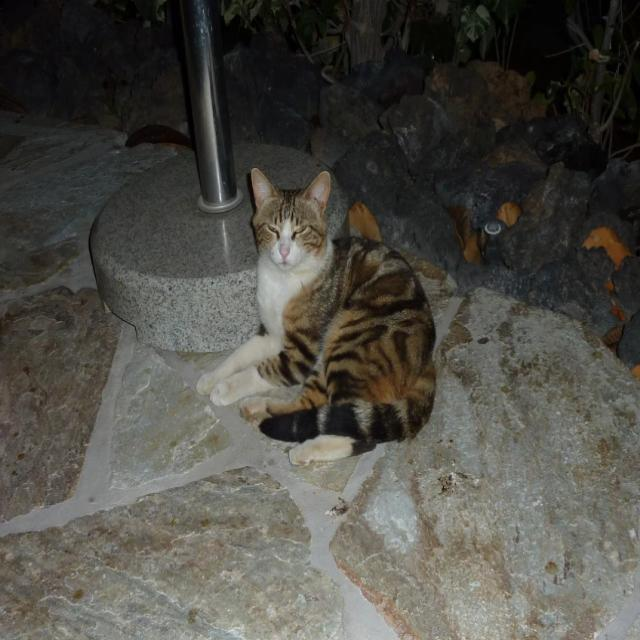cat: (198, 168, 435, 465)
